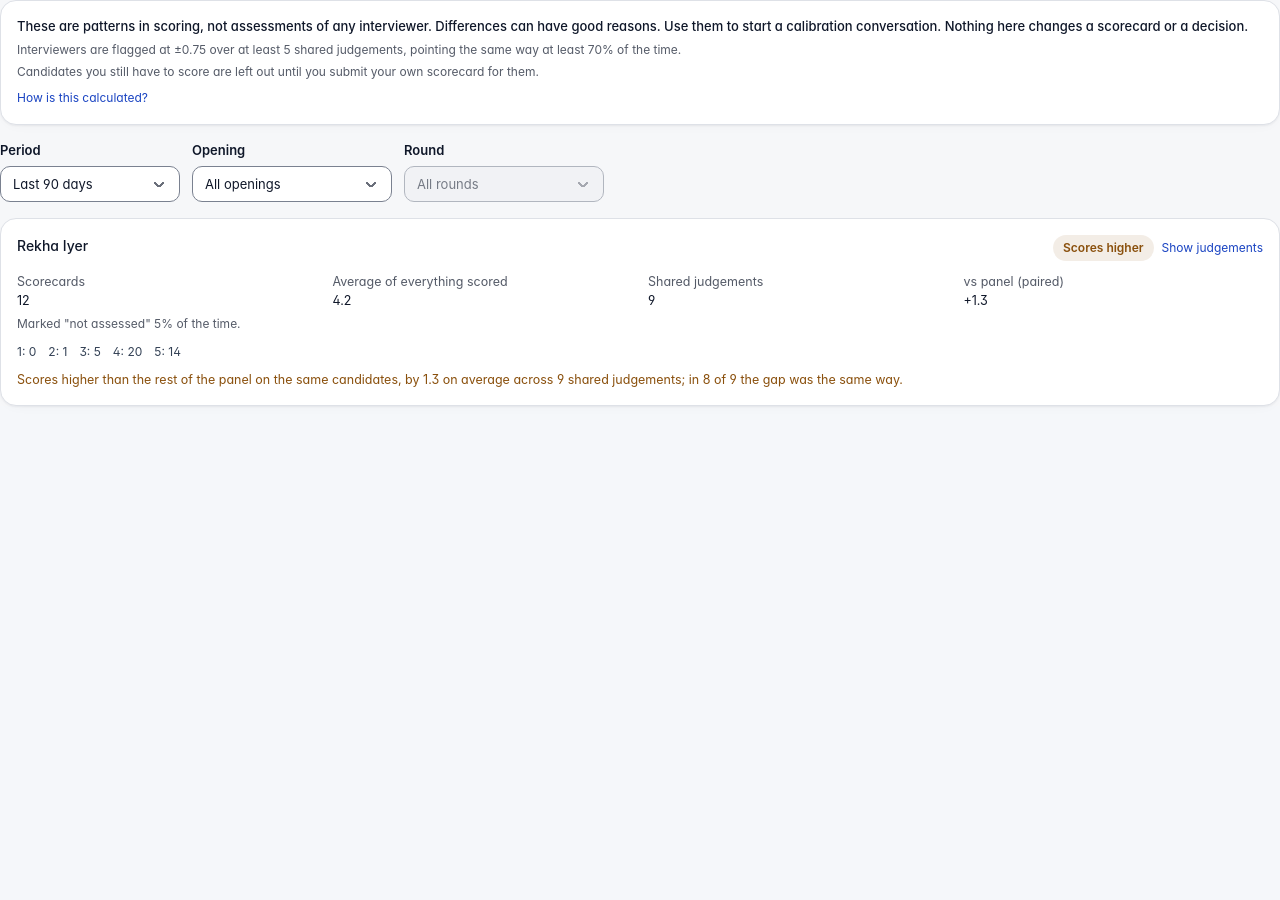
Scenario: CalibrationTab - judgements drill-down › opens the drill-down and lists the named judgements
Click the button "Show judgements".
click(1212, 248)  # box [1162,239,1263,257]
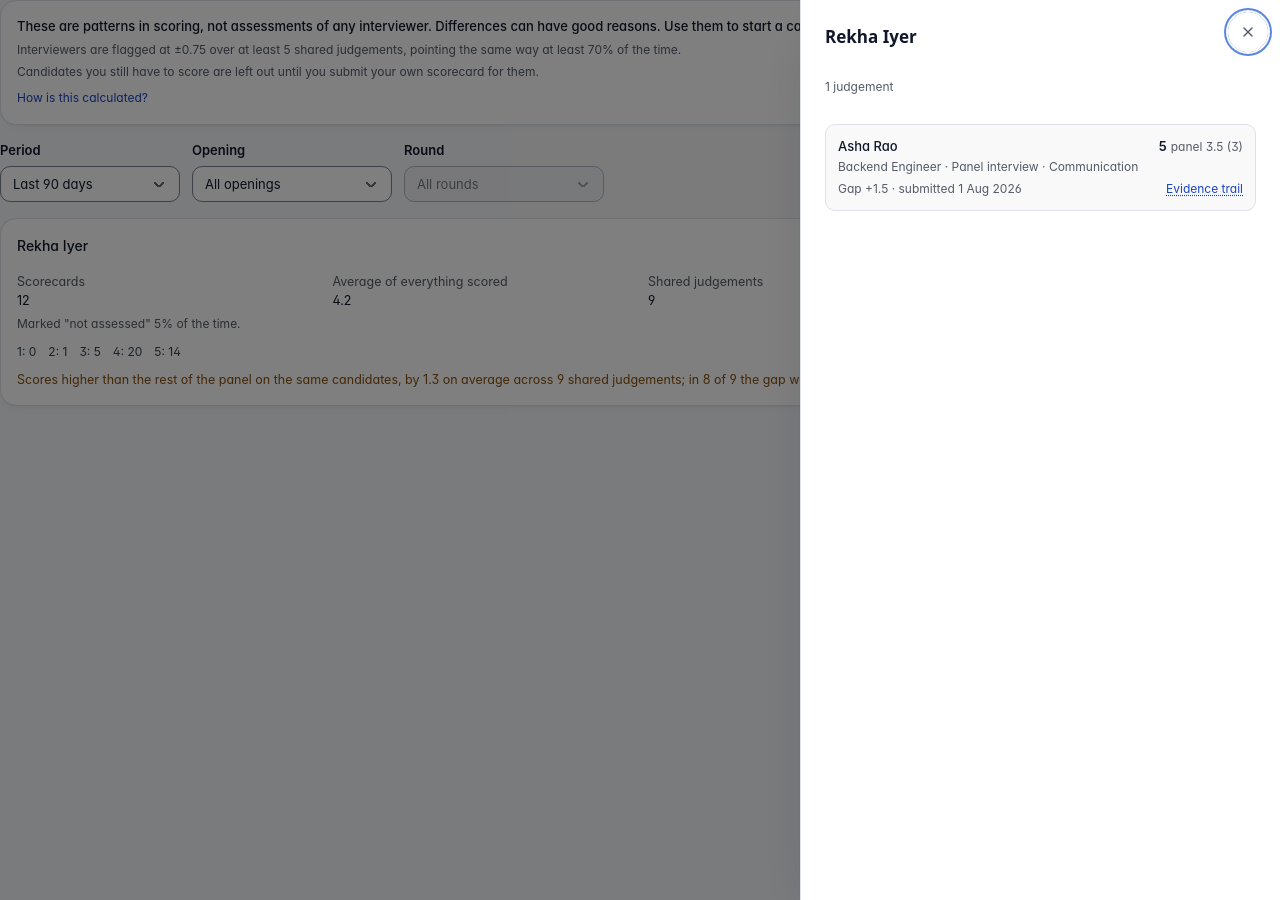
Now the text "Asha Rao" is shown, box [838,136,898,156]
Now the text "Backend Engineer · Panel interview · Communication" is shown, box [838,159,1138,174]
